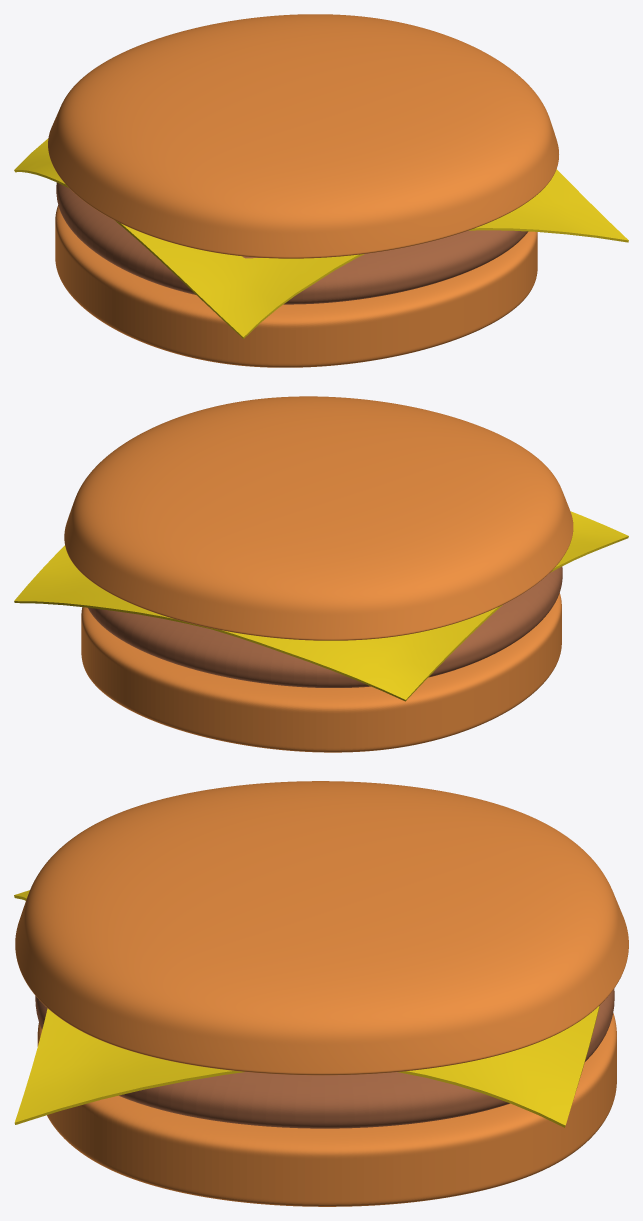
The model's file is burger.gltf.
The picture shows the model from 3 angles, top to bottom: view 1: azimuth 30°, elevation 25°; view 2: azimuth 150°, elevation 25°; view 3: azimuth 270°, elevation 25°; orthographic projection. The views are drawn at different scales.
Visible parts, largest first — view 1: Cube.002, Cube, Plane, Cube.001; view 2: Cube.002, Cube, Plane, Cube.001; view 3: Cube.002, Cube, Plane, Cube.001.
Boxes of the visible parts, x1=… form: Cube.002: x1=48, y1=14, x2=558, y2=258; Cube: x1=55, y1=205, x2=537, y2=367; Plane: x1=14, y1=138, x2=628, y2=338; Cube.001: x1=56, y1=182, x2=528, y2=304; Cube.002: x1=64, y1=396, x2=573, y2=640; Cube: x1=81, y1=593, x2=561, y2=752; Plane: x1=14, y1=511, x2=628, y2=701; Cube.001: x1=88, y1=566, x2=562, y2=687; Cube.002: x1=15, y1=781, x2=628, y2=1075; Cube: x1=37, y1=1013, x2=616, y2=1206; Plane: x1=14, y1=890, x2=599, y2=1127; Cube.001: x1=35, y1=989, x2=614, y2=1128.
Size of the model in its own units: 19.42 by 7.75 by 19.46.
